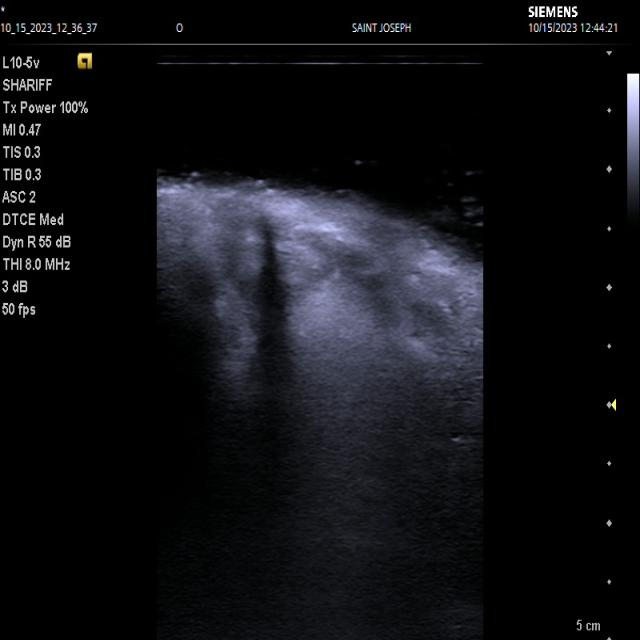tissue: (210, 189, 394, 428)
